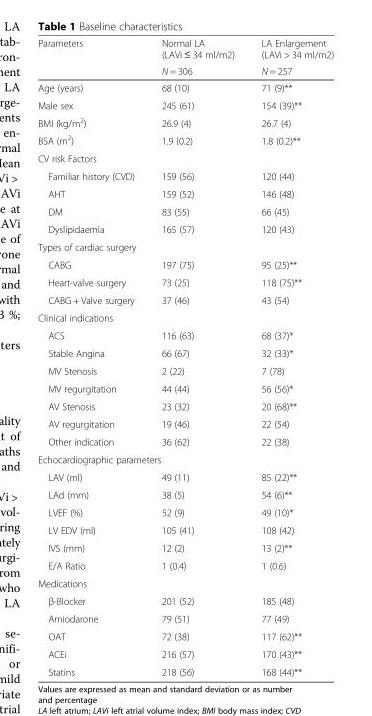table: (37, 37, 333, 677)
table column: (37, 37, 147, 677), (147, 37, 247, 677), (247, 37, 333, 677)
table column header: (37, 37, 333, 79)
table projected row header: (37, 149, 333, 167), (37, 237, 333, 255), (37, 308, 333, 326), (37, 450, 333, 468), (37, 574, 333, 591)
table row: (37, 37, 333, 62), (37, 130, 333, 149), (37, 149, 333, 167), (37, 184, 333, 202), (37, 202, 333, 220), (37, 237, 333, 255), (37, 255, 333, 273), (37, 290, 333, 308), (37, 308, 333, 326), (37, 326, 333, 344), (37, 361, 333, 379), (37, 379, 333, 397), (37, 414, 333, 432), (37, 432, 333, 450), (37, 450, 333, 468), (37, 485, 333, 503), (37, 503, 333, 521), (37, 538, 333, 556), (37, 556, 333, 574), (37, 591, 333, 609), (37, 609, 333, 627), (37, 644, 333, 662), (37, 62, 333, 79), (37, 79, 333, 96), (37, 96, 333, 113), (37, 113, 333, 130), (37, 167, 333, 184), (37, 220, 333, 237), (37, 273, 333, 290), (37, 344, 333, 361), (37, 397, 333, 414), (37, 468, 333, 485), (37, 521, 333, 538), (37, 574, 333, 591), (37, 627, 333, 644), (37, 662, 333, 677)
table spanning cell: (37, 37, 147, 79), (147, 37, 247, 79), (247, 37, 333, 79)
